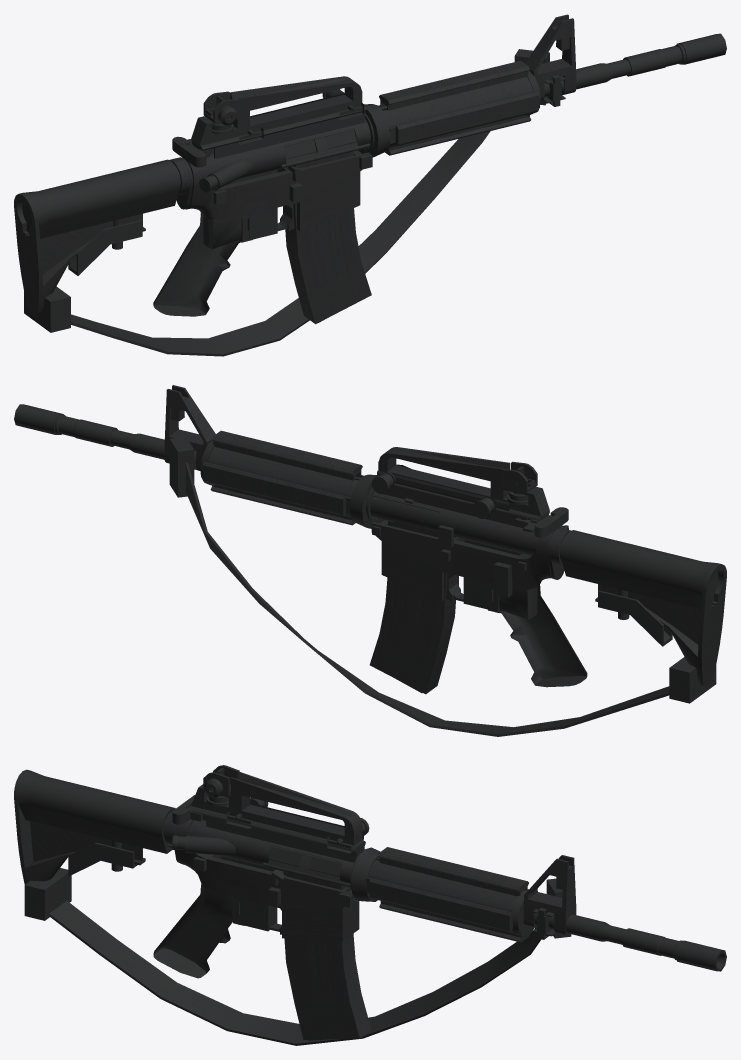
File: M4_lowPoly_08.dae
The picture shows the model from 3 angles, top to bottom: view 1: azimuth 30°, elevation 25°; view 2: azimuth 150°, elevation 25°; view 3: azimuth 330°, elevation 25°; orthographic projection.
Parts seen in each view (by area): view 1: Buttstock, Strap, Upper_Handguard, Lower_Receiver, Tube, Gun_Carrying_Handle, Upper_Receiver, Pistol_Grip, Barrel_Assembly, Ejection_Port_Cover, Buttstock_Release_Lever, proxy_Sling_Latch_back (+6 smaller); view 2: Buttstock, Upper_Handguard, Lower_Receiver, Tube, Upper_Receiver, Strap, Pistol_Grip, Barrel_Assembly, Gun_Carrying_Handle, Buttstock_Release_Lever, proxy_Sling_Latch_back, proxy_Sling_Latch_front (+8 smaller); view 3: Buttstock, Strap, Upper_Handguard, Lower_Receiver, Tube, Gun_Carrying_Handle, Upper_Receiver, Barrel_Assembly, Pistol_Grip, proxy_Sling_Latch_back, Ejection_Port_Cover, Buttstock_Release_Lever (+6 smaller).
Boxes of the visible parts, x1,y1,x2,y2 form: Buttstock: (14,159,179,316); Strap: (71,131,490,356); Upper_Handguard: (378,60,538,145); Lower_Receiver: (182,151,369,242); Tube: (285,151,371,324); Gun_Carrying_Handle: (191,76,364,145); Upper_Receiver: (191,106,374,190); Pistol_Grip: (153,213,242,316); Barrel_Assembly: (525,14,682,115); Ejection_Port_Cover: (283,128,358,167); Buttstock_Release_Lever: (68,220,142,275); proxy_Sling_Latch_back: (24,286,70,332); Buttstock: (561,530,726,686); Upper_Handguard: (203,430,363,515); Lower_Receiver: (371,521,560,612); Tube: (369,520,457,694); Upper_Receiver: (366,476,549,555); Strap: (185,462,669,736); Pistol_Grip: (498,585,587,687); Barrel_Assembly: (58,385,215,485); Gun_Carrying_Handle: (378,447,549,516); Buttstock_Release_Lever: (598,590,672,646); proxy_Sling_Latch_back: (669,657,716,703); proxy_Sling_Latch_front: (169,437,194,497); Buttstock: (14,769,175,884); Strap: (49,901,541,1045); Upper_Handguard: (366,847,528,932); Lower_Receiver: (176,819,359,941); Tube: (283,871,371,1039); Gun_Carrying_Handle: (191,771,362,853); Upper_Receiver: (184,806,365,901); Barrel_Assembly: (512,855,678,958); Pistol_Grip: (153,884,232,978); proxy_Sling_Latch_back: (24,868,71,920); Ejection_Port_Cover: (267,845,342,884); Buttstock_Release_Lever: (68,842,137,876).
Bounding box in the file's own units: 0.7566 × 0.095 × 0.2753.
